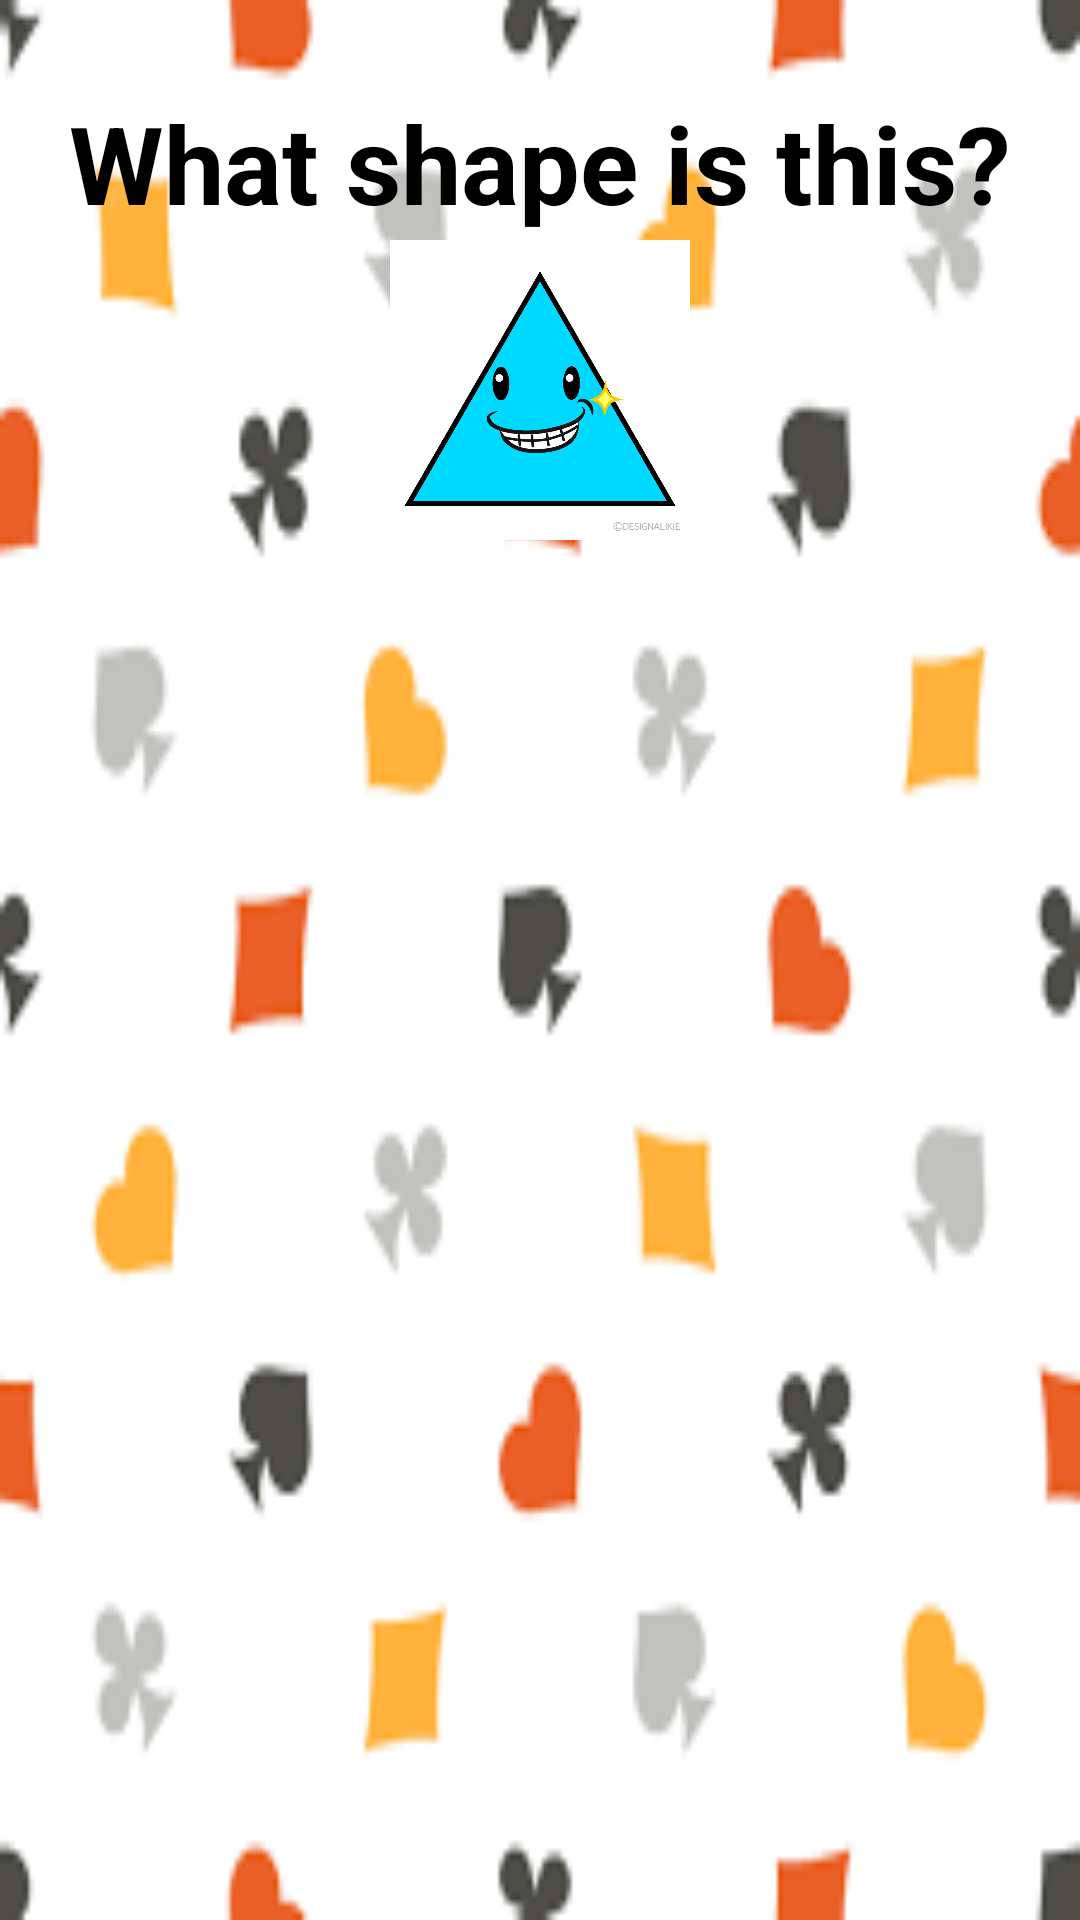

Icon click points for this 1080×1920 phone screenshot, format (x=x, y=y):
triangle: (x=542, y=401)
